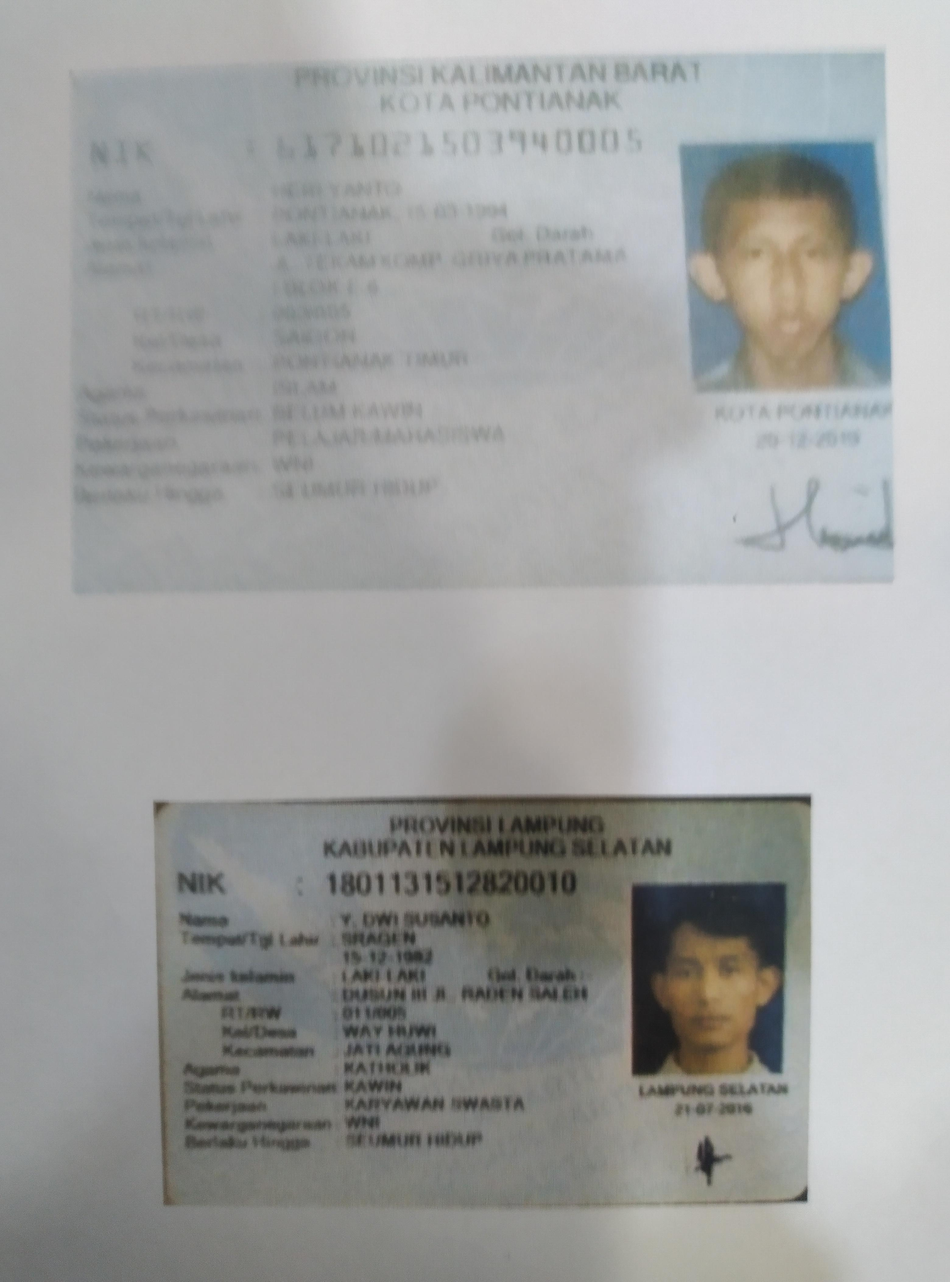ktp: (72, 56, 894, 591)
